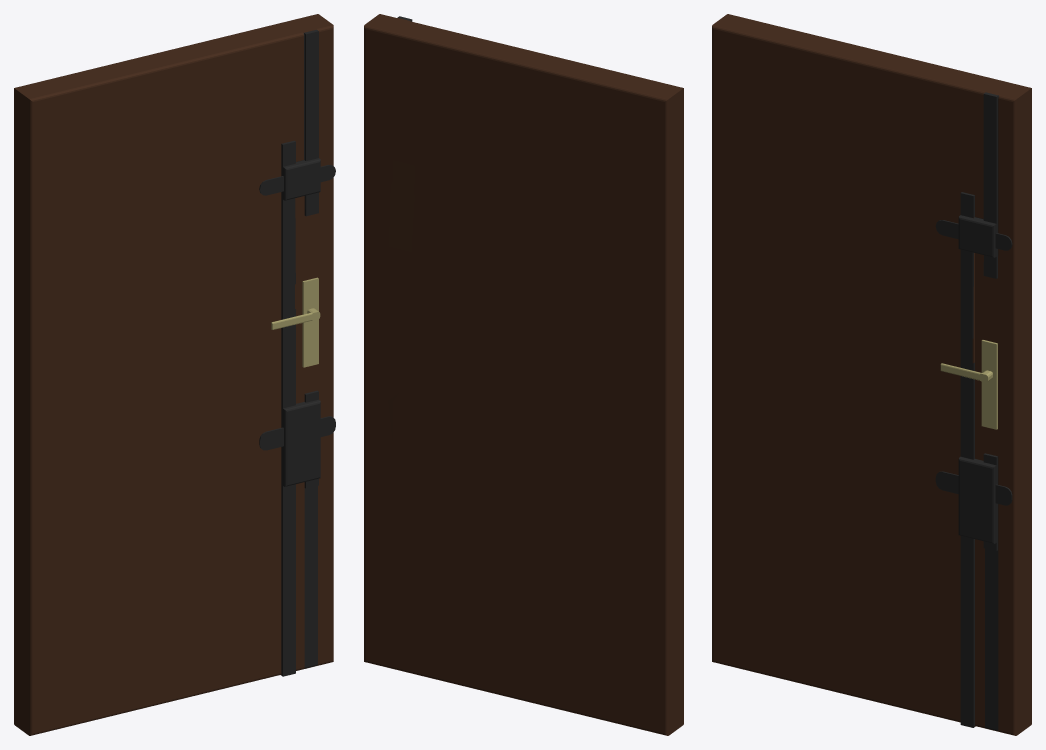
File: Basement_door_v2.fbx
3 views of the same model, side by side, from view 1: azimuth 30°, elevation 25°; view 2: azimuth 150°, elevation 25°; view 3: azimuth 330°, elevation 25° (orthographic).
Parts seen in each view (by area): view 1: Basement_Door; view 2: Basement_Door; view 3: Basement_Door.
Boxes of the visible parts, <box> form: Basement_Door: <box>14,14,335,735</box>; Basement_Door: <box>364,14,683,735</box>; Basement_Door: <box>712,14,1031,735</box>.
Size of the model in its own units: 1 by 2 by 0.1363.
